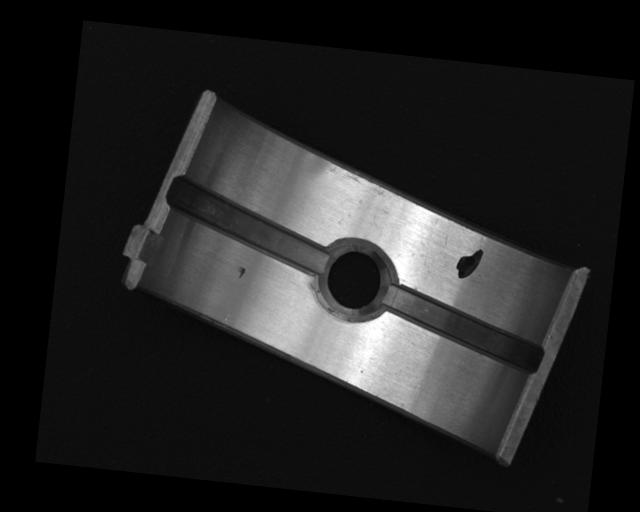blot: (454, 246, 484, 281)
bruise: (237, 265, 246, 279)
gap: (164, 177, 334, 276), (378, 286, 551, 375)
hole: (315, 239, 396, 325)
